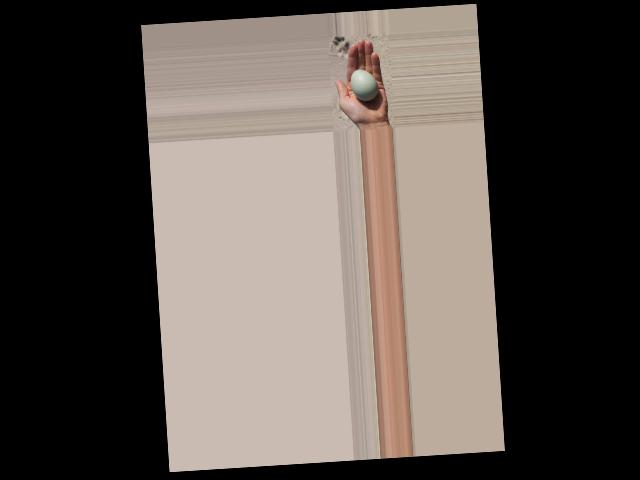egg: (350, 68, 379, 101)
